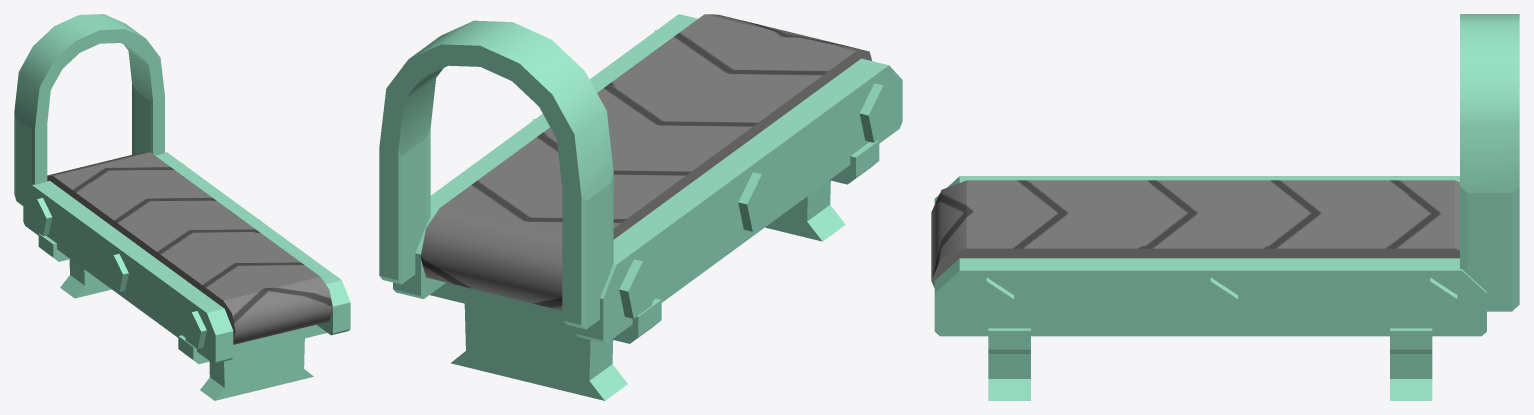
File: factory_belt_noceiling.FBX
The picture shows the model from 3 angles, left to right: view 1: azimuth 30°, elevation 25°; view 2: azimuth 150°, elevation 25°; view 3: azimuth 270°, elevation 25°; orthographic projection. The views are drawn at different scales.
Visible parts, largest first — view 1: factory_belt_base, factory_belt_belt; view 2: factory_belt_base, factory_belt_belt; view 3: factory_belt_base, factory_belt_belt.
Part boxes in pixels (box(x1,y1,x2,y2)): factory_belt_base: box(14, 14, 350, 400); factory_belt_belt: box(47, 152, 332, 344); factory_belt_base: box(379, 14, 902, 400); factory_belt_belt: box(420, 14, 871, 310); factory_belt_base: box(934, 14, 1519, 400); factory_belt_belt: box(931, 180, 1459, 287).
Bounding box in the file's own units: 130 × 316 × 202.
